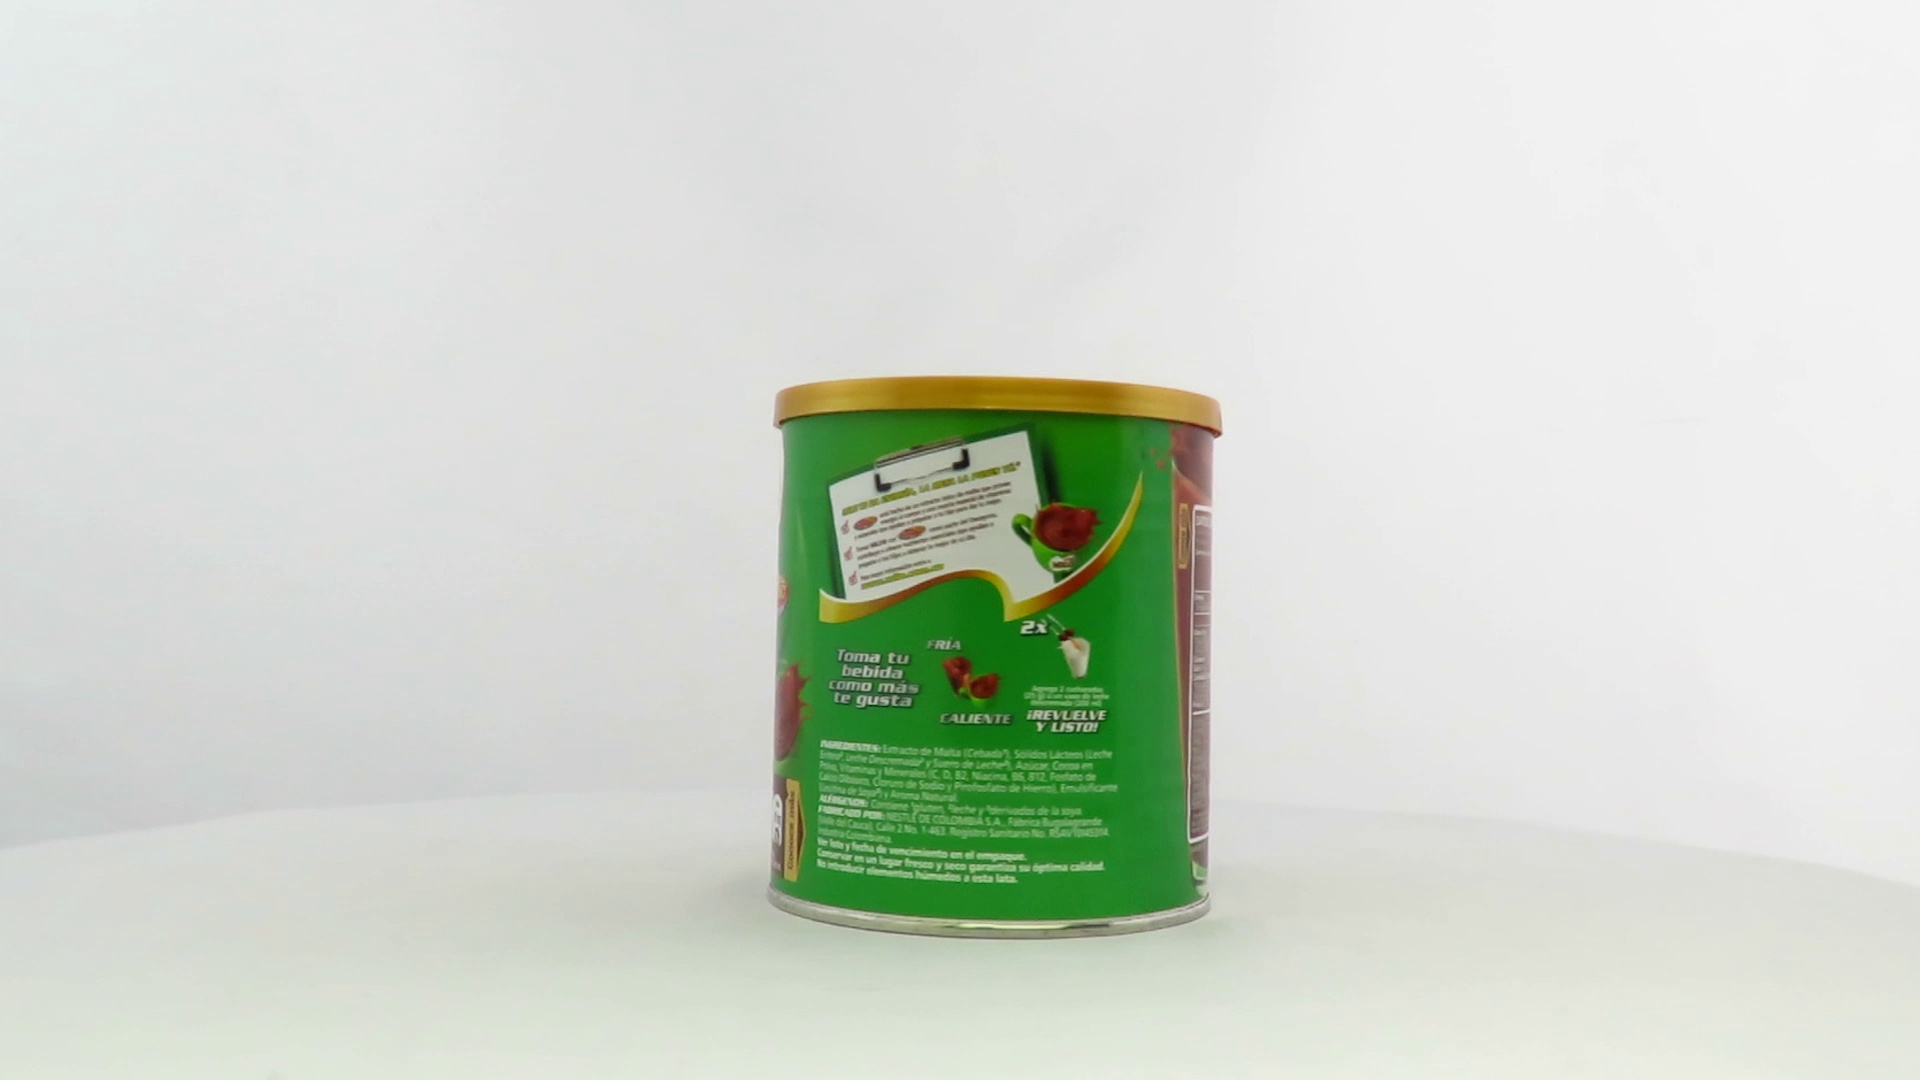COL0170203LAT40000: (760, 371, 1229, 945)
